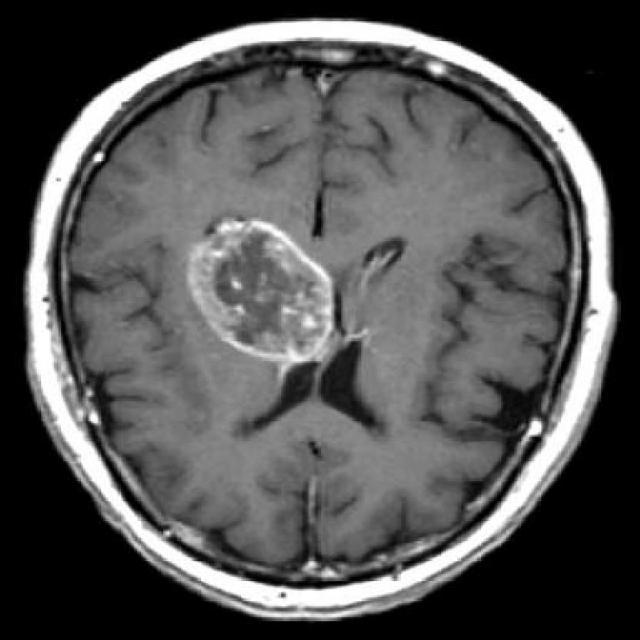Brain-Tumor: (179, 202, 349, 372)
